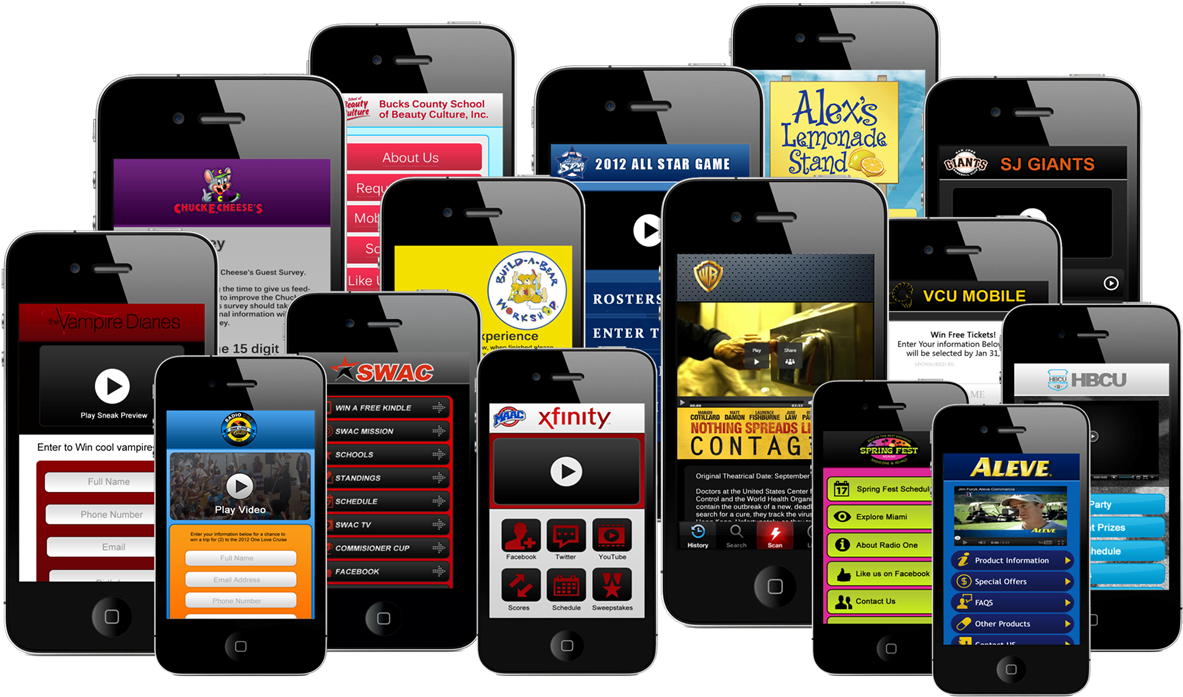phone: (147, 357, 345, 691), (477, 347, 663, 694), (935, 403, 1100, 697)
